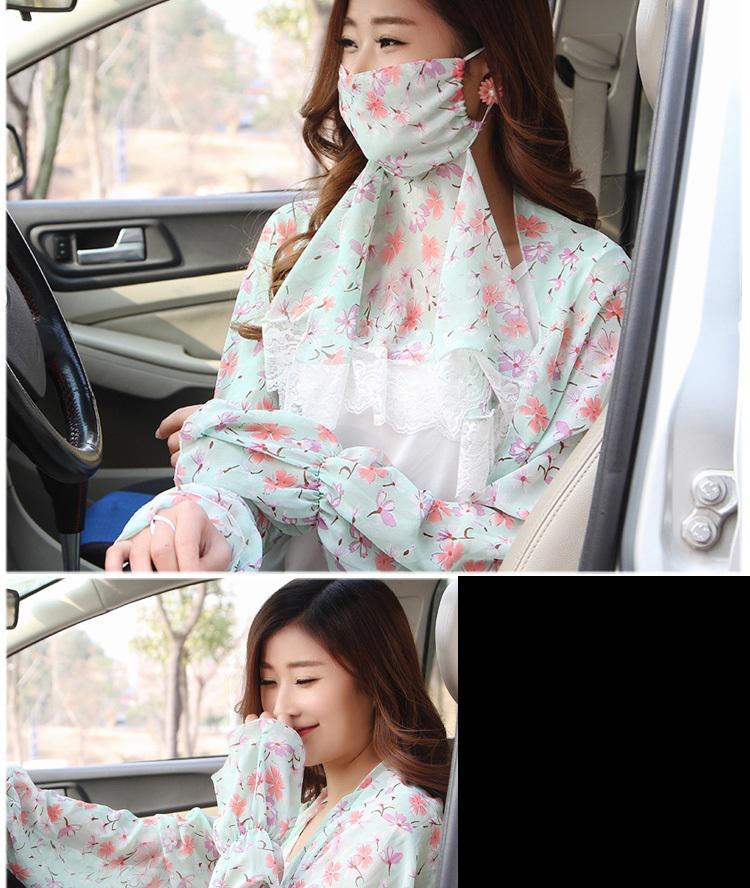NONE: (248, 656, 363, 771)
WRONG: (321, 11, 474, 164)
